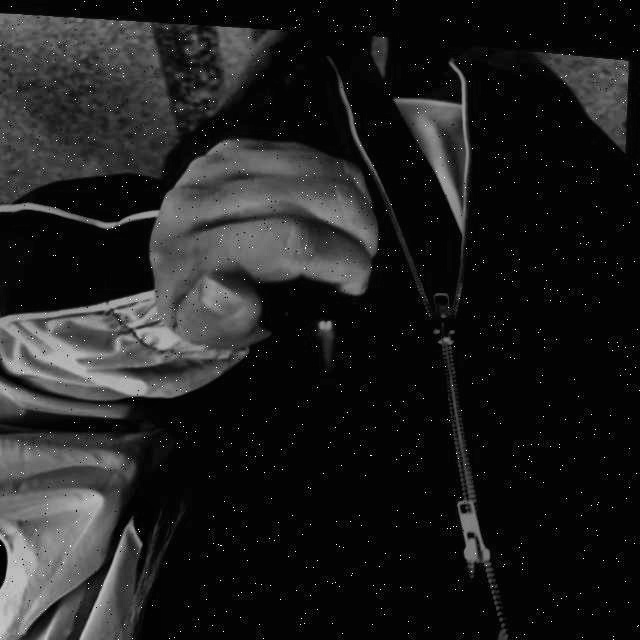Fire: (318, 318, 345, 379)
